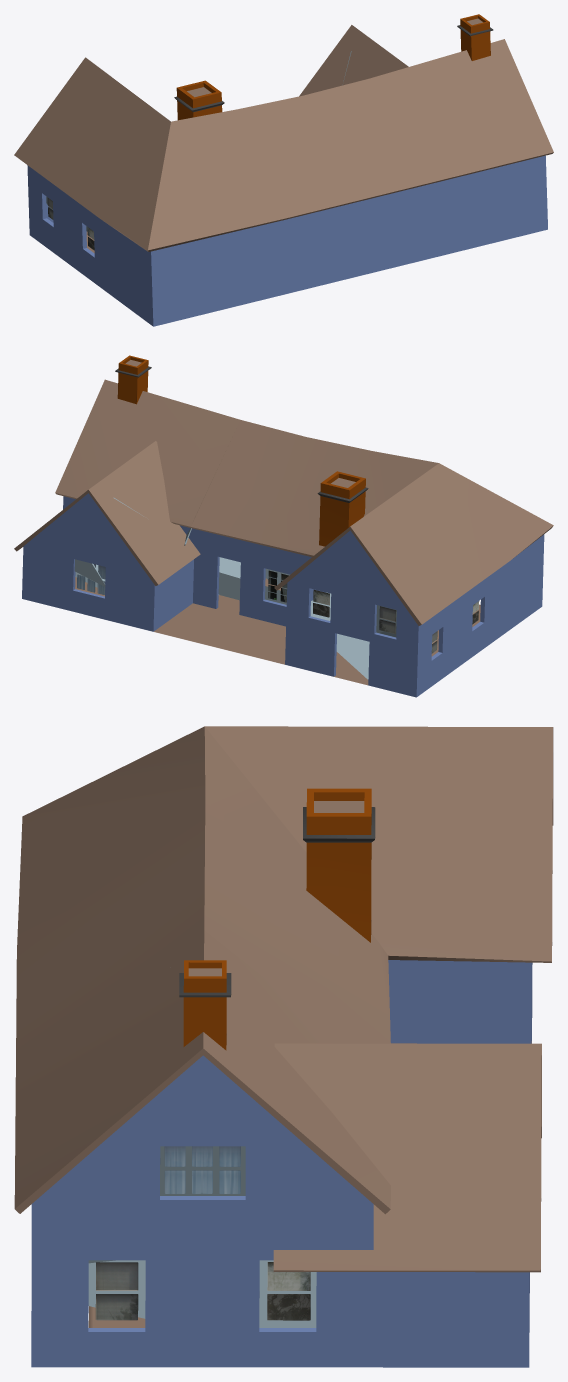
The model's file is HouseBRoot.fbx.
3 views of the same model, one above another, from view 1: azimuth 30°, elevation 25°; view 2: azimuth 150°, elevation 25°; view 3: azimuth 270°, elevation 25° (orthographic). The views are drawn at different scales.
Parts seen in each view (by area): view 1: Body_sh_5, Body_sh_7, Body_sh_1, Body_sh_11, Body_sh_4, Body_sh_2, Body_sh_14, Body_sh_16, Body_sh_8, Body_sh_6, Body_sh_13, Body_sh_15; view 2: Body_sh_2, Body_sh_8, Body_sh_5, Body_sh_4, Body_sh_1, Body_sh_3, Body_sh_11, Body_sh_9, Body_sh_6, Body_sh_7, Body_sh_14, Body_sh_15 (+1 smaller); view 3: Body_sh_11, Body_sh_2, Body_sh_1, Body_sh_6, Body_sh_7, Body_sh_4, Body_sh_12, Body_sh_5, Body_sh_14, Body_sh_9, Body_sh_8, Body_sh_3 (+2 smaller).
Boxes of the visible parts, bbox=[...] form: Body_sh_5: bbox=[19, 156, 290, 326]; Body_sh_7: bbox=[284, 77, 465, 292]; Body_sh_1: bbox=[26, 83, 311, 235]; Body_sh_11: bbox=[447, 39, 553, 248]; Body_sh_4: bbox=[333, 50, 467, 242]; Body_sh_2: bbox=[14, 57, 329, 198]; Body_sh_14: bbox=[174, 80, 224, 120]; Body_sh_16: bbox=[461, 25, 493, 60]; Body_sh_8: bbox=[299, 51, 338, 96]; Body_sh_6: bbox=[333, 25, 386, 50]; Body_sh_13: bbox=[183, 94, 213, 118]; Body_sh_15: bbox=[457, 14, 489, 39]; Body_sh_2: bbox=[242, 430, 426, 689]; Body_sh_8: bbox=[78, 515, 372, 686]; Body_sh_5: bbox=[385, 480, 553, 697]; Body_sh_4: bbox=[71, 397, 234, 544]; Body_sh_1: bbox=[311, 438, 469, 613]; Body_sh_3: bbox=[153, 488, 296, 604]; Body_sh_11: bbox=[55, 379, 162, 509]; Body_sh_9: bbox=[22, 543, 240, 623]; Body_sh_6: bbox=[14, 463, 124, 557]; Body_sh_7: bbox=[230, 418, 286, 588]; Body_sh_14: bbox=[317, 471, 359, 546]; Body_sh_15: bbox=[115, 355, 148, 389]; Body_sh_11: bbox=[14, 1011, 517, 1367]; Body_sh_2: bbox=[188, 726, 553, 1028]; Body_sh_1: bbox=[16, 726, 413, 969]; Body_sh_6: bbox=[394, 1043, 541, 1282]; Body_sh_7: bbox=[15, 885, 326, 1123]; Body_sh_4: bbox=[15, 935, 397, 1145]; Body_sh_12: bbox=[273, 1127, 502, 1272]; Body_sh_5: bbox=[17, 750, 532, 964]; Body_sh_14: bbox=[303, 788, 375, 942]; Body_sh_9: bbox=[361, 1272, 529, 1367]; Body_sh_8: bbox=[390, 999, 541, 1138]; Body_sh_3: bbox=[316, 994, 390, 1043].
Size of the model in its own units: 1911 by 830 by 1087.
